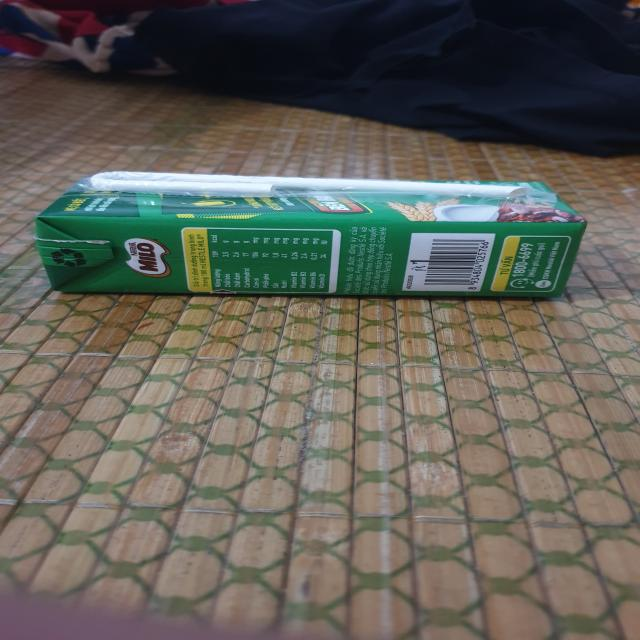Milo: (33, 172, 591, 306)
